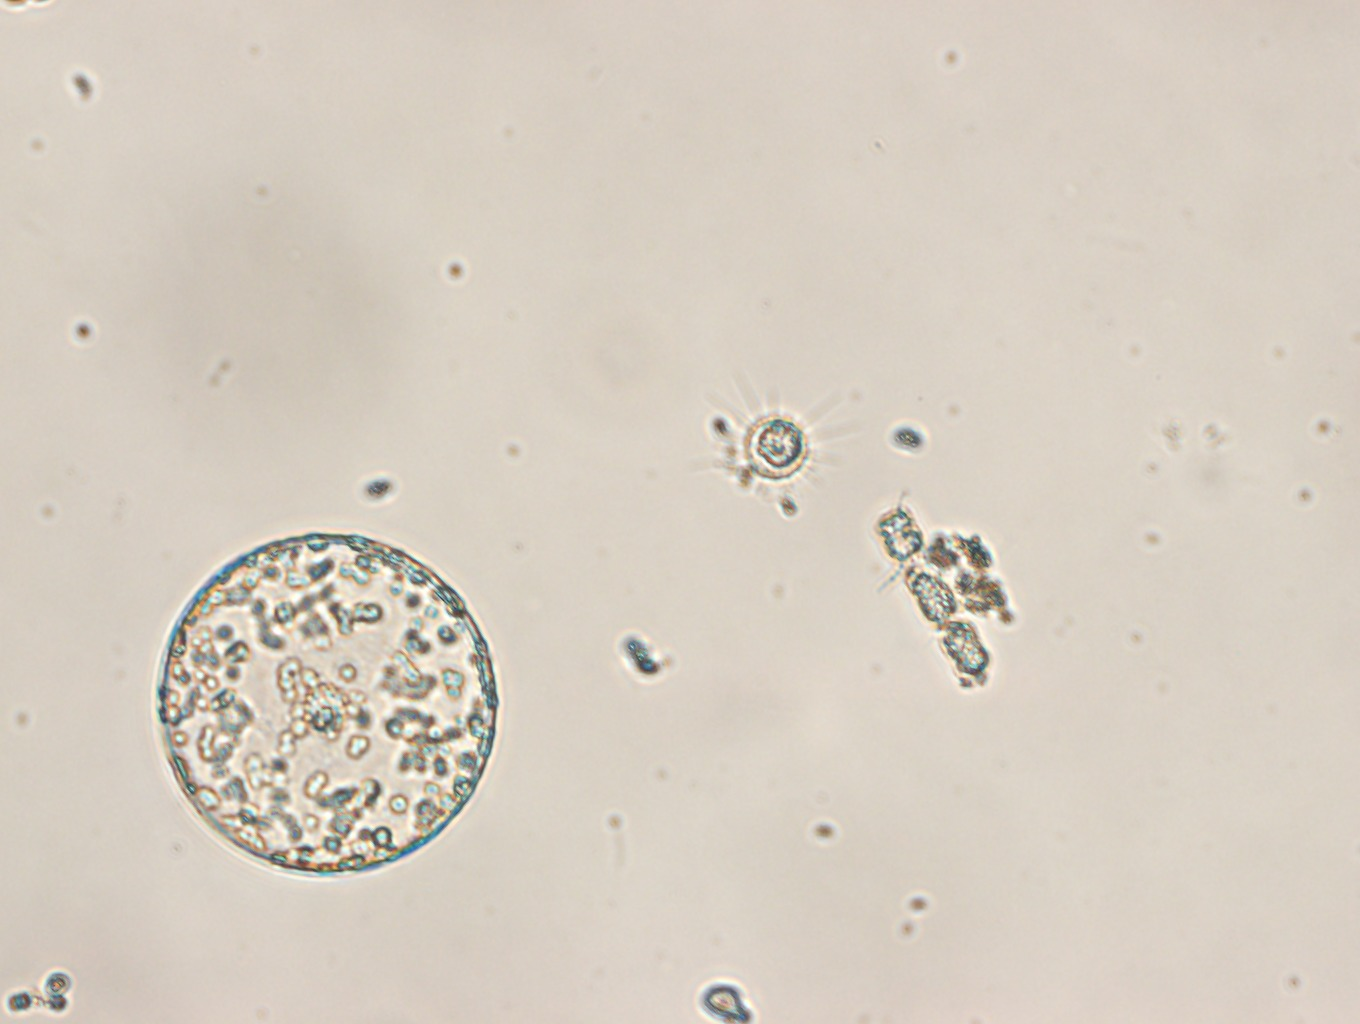bacteriastrum: (693, 356, 861, 516)
chaetoceros: (868, 495, 997, 693)
coscinodiscus: (157, 534, 500, 877)
